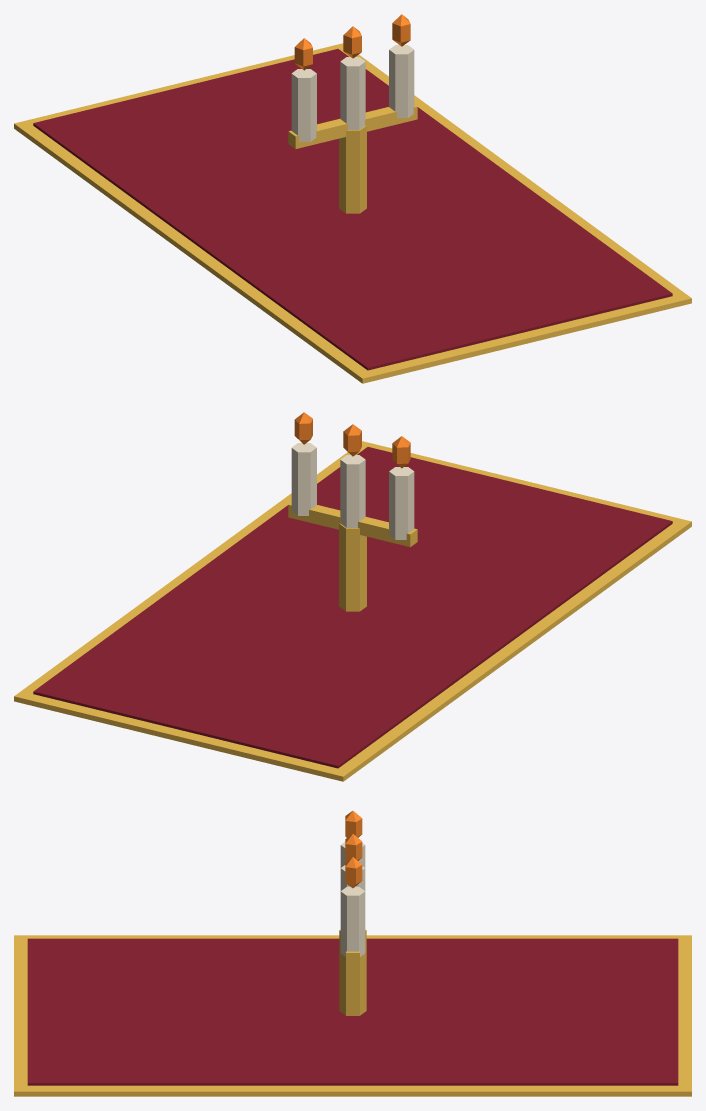
Rendered from PR_Tier_Ortu2.fbx.
The picture shows the model from 3 angles, top to bottom: view 1: azimuth 30°, elevation 25°; view 2: azimuth 150°, elevation 25°; view 3: azimuth 270°, elevation 25°; orthographic projection. The views are drawn at different scales.
Visible parts, largest first — view 1: PR_Tier_Ortu2; view 2: PR_Tier_Ortu2; view 3: PR_Tier_Ortu2.
Boxes of the visible parts, x1,y1,x2,y2 form: PR_Tier_Ortu2: (14, 14, 691, 383); PR_Tier_Ortu2: (14, 412, 691, 781); PR_Tier_Ortu2: (14, 811, 691, 1096).
Size of the model in its own units: 0.54 by 0.2976 by 0.99.
Materials: 1 (1 with a texture image).
